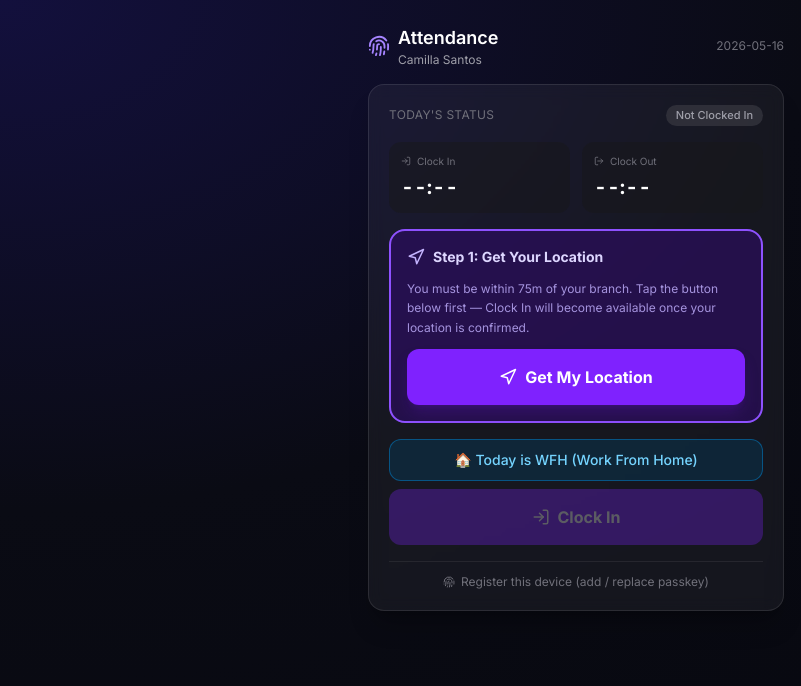
AttendancePage — WFH Mode › shows error when wfh_declare returns 500
Click the button "🏠 Today is WFH (Work From Home)" at {"x": 576, "y": 460}, box [389, 439, 763, 481]
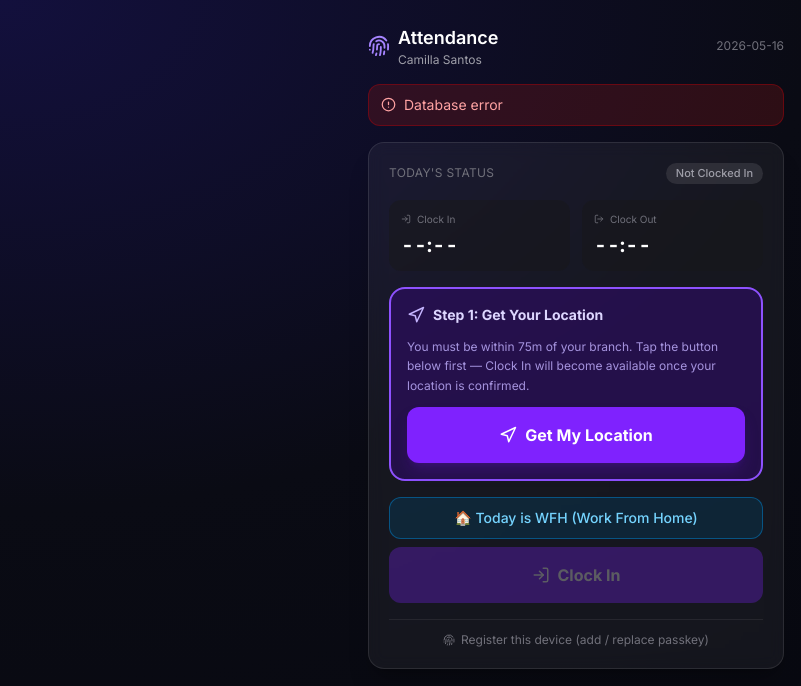
Expected: the text "Database error" is shown, [404, 95, 503, 115]
